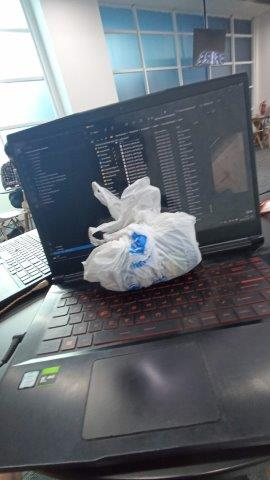plastik: (83, 178, 201, 290)
